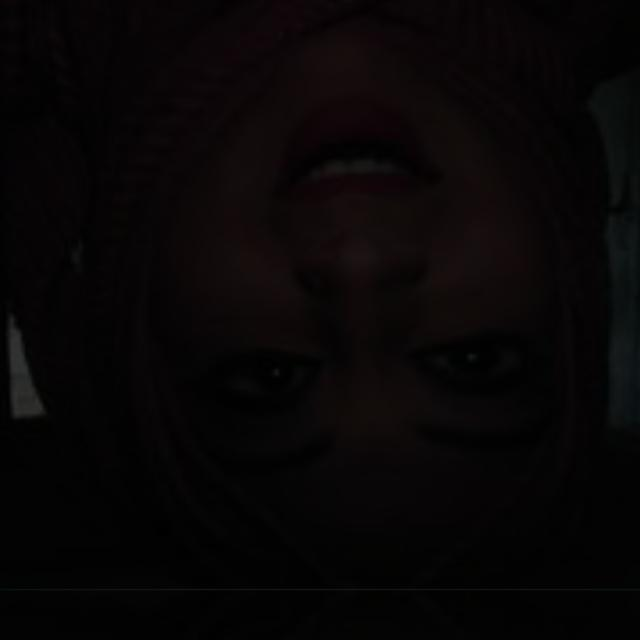Surprised: (132, 67, 611, 603)
